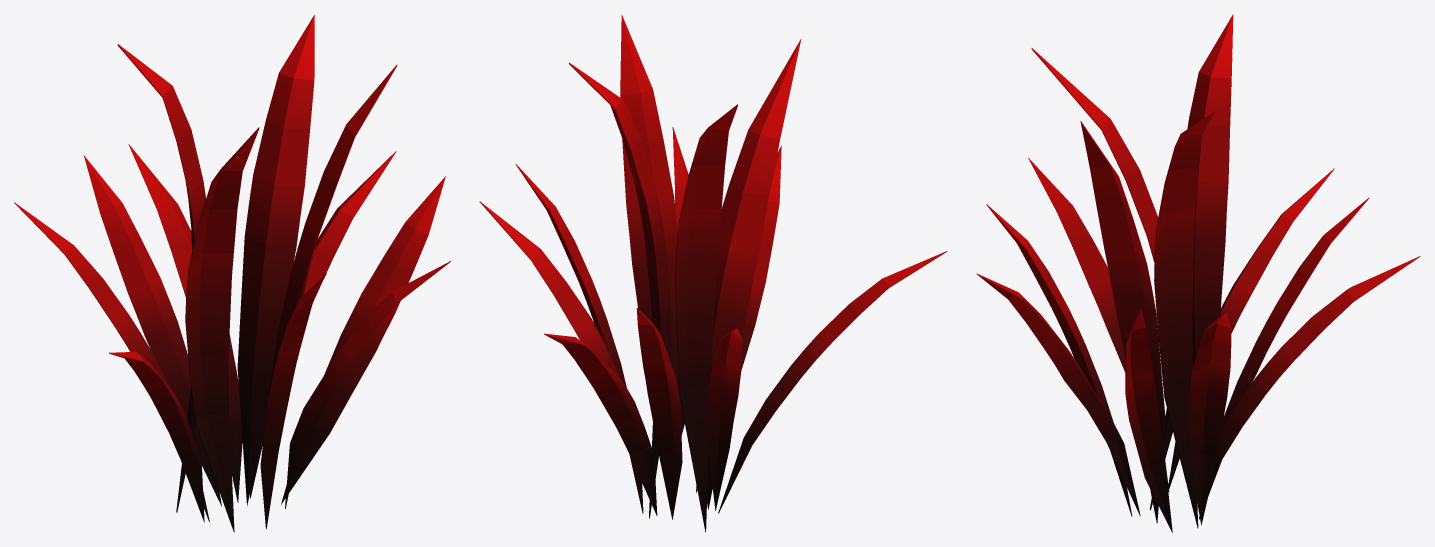
File: SmallBush.fbx
3 views of the same model, side by side, from view 1: azimuth 30°, elevation 25°; view 2: azimuth 150°, elevation 25°; view 3: azimuth 270°, elevation 25° (orthographic). The views are drawn at different scales.
Visible parts, largest first — view 1: Plane.043, Plane.041, Plane.039, Plane.048, Plane.044, Plane.049, Plane.042, Plane.050, Plane.040, Plane.047, Plane.046, Plane.045; view 2: Plane.040, Plane.041, Plane.044, Plane.043, Plane.039, Plane.042, Plane.047, Plane.046, Plane.045, Plane.048, Plane.049, Plane.050; view 3: Plane.043, Plane.040, Plane.044, Plane.045, Plane.048, Plane.042, Plane.050, Plane.047, Plane.041, Plane.039, Plane.049, Plane.046.
Part boxes in pixels (x1,y1,x2,y2): Plane.043: (237,14,314,505); Plane.041: (185,127,259,532); Plane.039: (83,155,221,506); Plane.048: (281,176,445,504); Plane.044: (268,64,397,398); Plane.049: (260,273,326,529); Plane.042: (128,144,242,502); Plane.050: (285,261,450,508); Plane.040: (117,44,205,512); Plane.047: (109,351,204,522); Plane.046: (14,202,209,521); Plane.045: (250,151,396,498); Plane.040: (675,104,737,532); Plane.041: (707,39,800,509); Plane.044: (620,14,680,402); Plane.043: (569,62,671,518); Plane.039: (636,308,682,519); Plane.042: (544,333,657,515); Plane.047: (718,251,947,513); Plane.046: (708,327,741,510); Plane.045: (479,201,643,513); Plane.048: (515,164,626,387); Plane.049: (696,145,781,492); Plane.050: (672,127,688,434); Plane.043: (1154,111,1214,528); Plane.040: (1187,14,1233,368); Plane.044: (1080,121,1165,523); Plane.045: (1189,311,1231,525); Plane.048: (1125,308,1172,532); Plane.042: (1199,256,1420,519); Plane.050: (976,273,1140,515); Plane.047: (1028,157,1169,492); Plane.041: (1031,48,1172,510); Plane.039: (1221,197,1369,432); Plane.049: (986,204,1132,516); Plane.046: (1168,168,1334,491).
Size of the model in its own units: 362 by 417 by 363.
